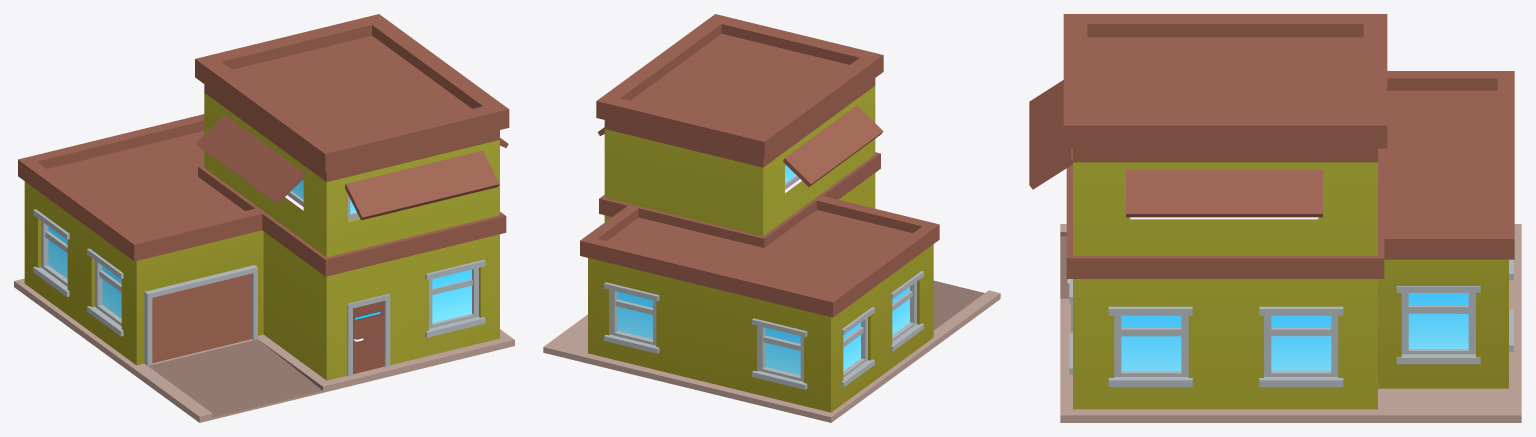
File: Building_Institution_05.glb
3 renders of one model, left to right at view 1: azimuth 30°, elevation 25°; view 2: azimuth 150°, elevation 25°; view 3: azimuth 270°, elevation 25°, orthographic. The views are drawn at different scales.
Parts seen in each view (by area): view 1: Building_Institution_05; view 2: Building_Institution_05; view 3: Building_Institution_05.
Boxes of the visible parts, box(x1,y1,x2,y2) form: Building_Institution_05: box(14, 14, 514, 422); Building_Institution_05: box(543, 14, 1000, 422); Building_Institution_05: box(1029, 14, 1521, 422).
Bounding box in the file's own units: 11.32 × 7.64 × 11.57.
Materials: 1 (1 with a texture image).
